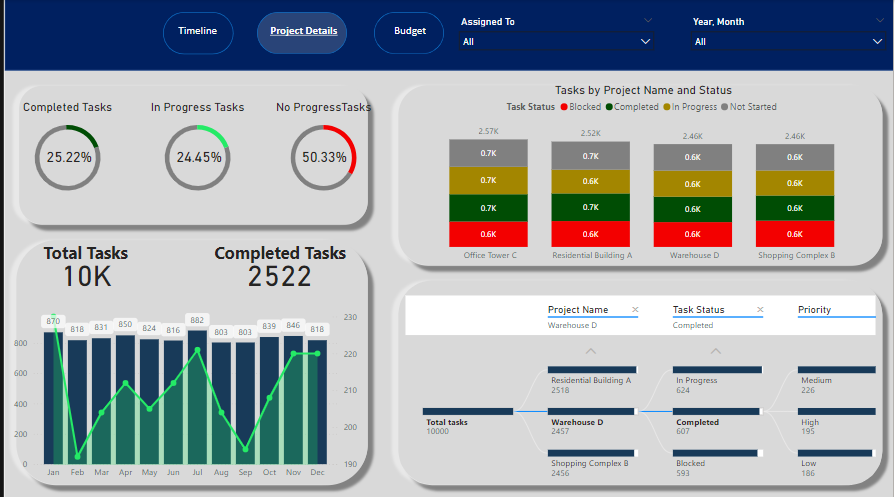

Layout of this report page (visuals, bound fields, positions):
{"tool":"powerbi","page":{"name":"Page 2","canvas":[1280,720],"ordinal":1},"visuals":[{"type":"donutChart","title":"Completed Tasks","fields":{"Y":["Key Measures.Total tasks","Key Measures.Completed Tasks"]},"box":[8.5,145.4,165.9,147.3],"z":0},{"type":"donutChart","title":"In Progress Tasks","fields":{"Y":["Key Measures.Total tasks","Key Measures.InProgress Tasks"]},"box":[196.5,145.4,165.9,147.3],"z":1000},{"type":"donutChart","title":"No ProgressTasks","fields":{"Y":["Key Measures.Total tasks","Key Measures.No Progress Tasks"]},"box":[377.6,145.4,165.9,147.3],"z":2000},{"type":"card","fields":{"Values":["Key Measures.%Completed Taaks"]},"box":[40.6,195.8,106.7,62.6],"z":3000},{"type":"card","fields":{"Values":["Key Measures.%In Progress tasks"]},"box":[226.9,195.8,106.7,62.6],"z":4000},{"type":"card","fields":{"Values":["Key Measures.%Noprogress Tasks"]},"box":[408,195.8,106.7,62.6],"z":5000},{"type":"lineStackedColumnComboChart","fields":{"Category":["Calendar.Month"],"Y":["Key Measures.Total tasks"],"Y2":["Key Measures.Completed Tasks"]},"box":[8.6,439.1,505.4,260.6],"z":6000},{"type":"slicer","fields":{"Values":["dataset.Assigned To"]},"box":[645.1,18.6,301.4,69.4],"z":7000},{"type":"slicer","fields":{"Values":["Calendar.Year","Calendar.Month"]},"box":[978.6,18.6,301.4,69.4],"z":8000},{"type":"card","fields":{"Values":["Key Measures.Total tasks"]},"box":[47.5,351.3,142.5,86.4],"z":9000},{"type":"card","fields":{"Values":["Key Measures.Completed Tasks"]},"box":[325.4,351.3,142.5,86.4],"z":10000},{"type":"textbox","box":[31.7,342.7,171.3,54.7],"z":11000},{"type":"textbox","box":[289.4,342.7,216,54.7],"z":12000},{"type":"columnChart","title":"Tasks by Project Name and Status","fields":{"Category":["dataset.Project Name"],"Y":["CountNonNull(dataset.Task Status)"],"Series":["dataset.Task Status"]},"box":[577.4,120.9,686.8,266.4],"z":13000},{"type":"shape","box":[228.6,18.6,101.6,61],"z":14000},{"type":"shape","box":[364.3,18.7,129.6,60.5],"z":15000},{"type":"shape","box":[532.7,18.7,100.8,60.5],"z":16000},{"type":"decompositionTreeVisual","fields":{"Analyze":["Key Measures.Total tasks"],"ExplainBy":["dataset.Project Name","dataset.Task Status","dataset.Priority"]},"box":[573,421.9,686.8,282.2],"z":17000}]}

Visuals, with their boxes in screenshot pixels (x1, y1, x2, y2), scaled from the page's 1280x720 canvas onto the 895x497 screenshot:
"Completed Tasks" donutChart: region(6, 100, 122, 202)
"In Progress Tasks" donutChart: region(137, 100, 253, 202)
"No ProgressTasks" donutChart: region(264, 100, 380, 202)
card - Key Measures.%Completed Taaks: region(28, 135, 103, 178)
card - Key Measures.%In Progress tasks: region(159, 135, 233, 178)
card - Key Measures.%Noprogress Tasks: region(285, 135, 360, 178)
lineStackedColumnComboChart - Calendar.Month x Key Measures.Total tasks: region(6, 303, 359, 483)
slicer - dataset.Assigned To: region(451, 13, 662, 61)
slicer - Calendar.Year x Calendar.Month: region(684, 13, 894, 61)
card - Key Measures.Total tasks: region(33, 242, 133, 302)
card - Key Measures.Completed Tasks: region(228, 242, 327, 302)
textbox: region(22, 237, 142, 274)
textbox: region(202, 237, 353, 274)
"Tasks by Project Name and Status" columnChart: region(404, 83, 884, 267)
shape: region(160, 13, 231, 55)
shape: region(255, 13, 345, 55)
shape: region(372, 13, 443, 55)
decompositionTreeVisual - Key Measures.Total tasks x dataset.Project Name: region(401, 291, 881, 486)
